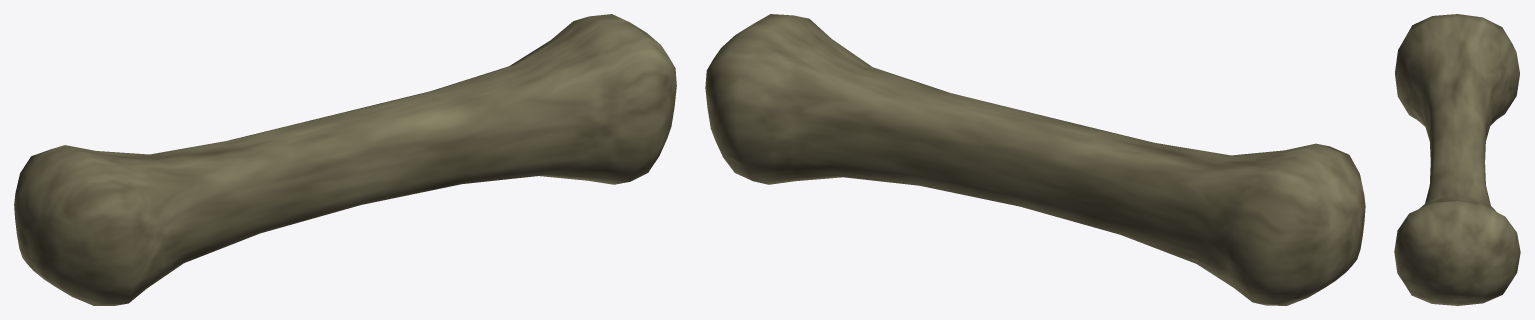
3 views of the same model, side by side, from view 1: azimuth 30°, elevation 25°; view 2: azimuth 150°, elevation 25°; view 3: azimuth 270°, elevation 25° (orthographic). The views are drawn at different scales.
Parts seen in each view (by area): view 1: 立方体.001; view 2: 立方体.001; view 3: 立方体.001.
Part boxes in pixels (x1,y1,x2,y2): 立方体.001: (14, 14, 676, 305); 立方体.001: (705, 14, 1365, 305); 立方体.001: (1394, 14, 1520, 305).
Bounding box in the file's own units: 720 × 159 × 173.
